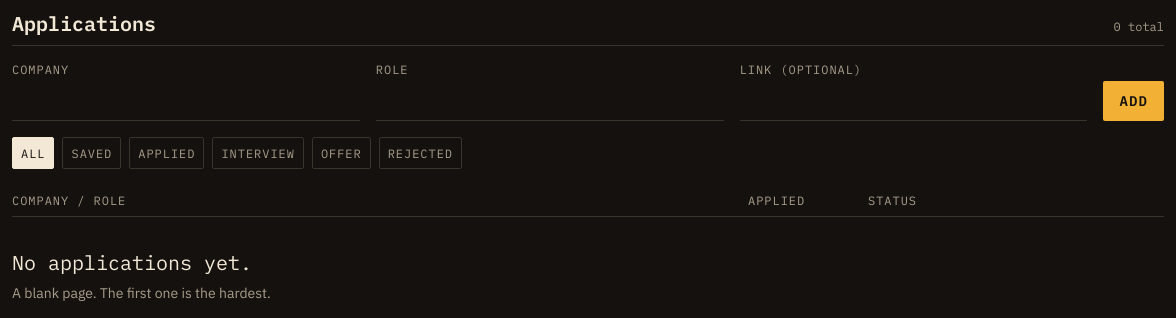
it: ApplicationsList create and delete › adding an application posts it and shows it
Expected: the text "No applications yet." is shown, [12,249,252,276]
Type "Acme" into the field labelled "Company" at [186, 101], box [12,81,360,121]
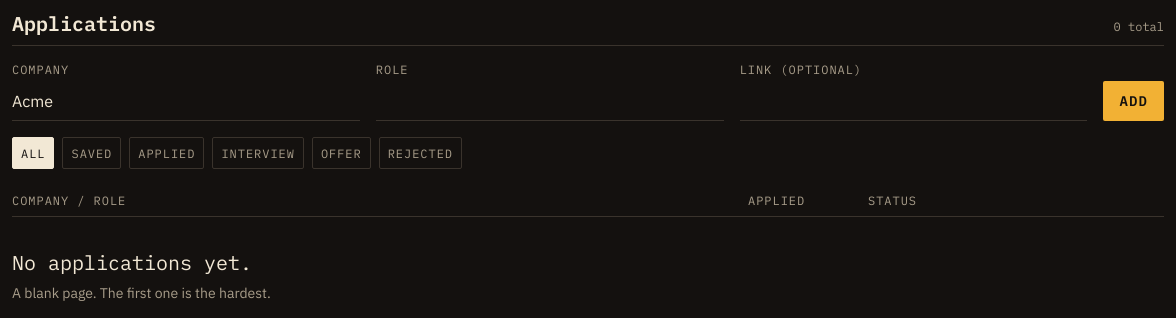
Type "Engineer" into the field labelled "Role" at [550, 101], box [376,81,724,121]
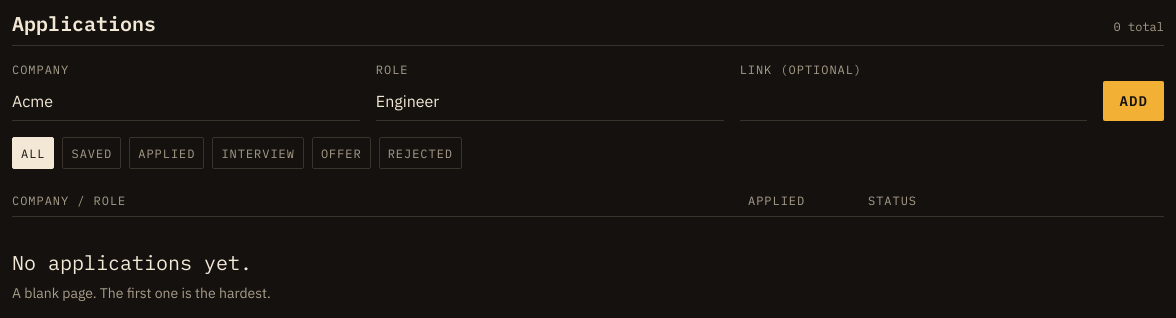
Click the button "Add" at [1134, 101], box [1103,81,1164,121]
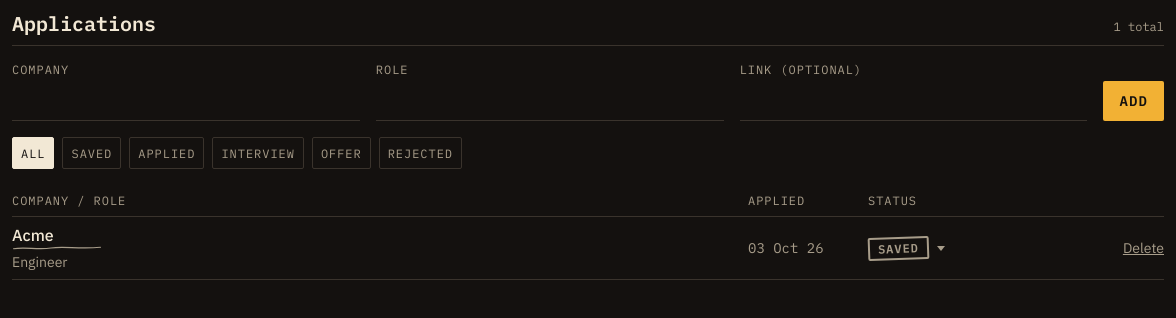
Expected: the text "Engineer" is shown, [12,253,68,271]
